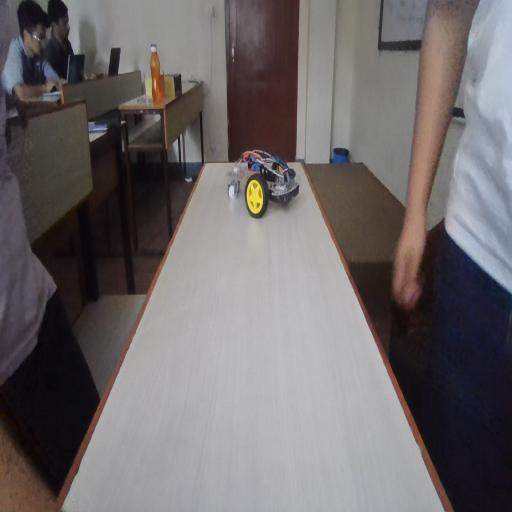Bottle: (144, 42, 175, 125)
car: (233, 133, 311, 253)
